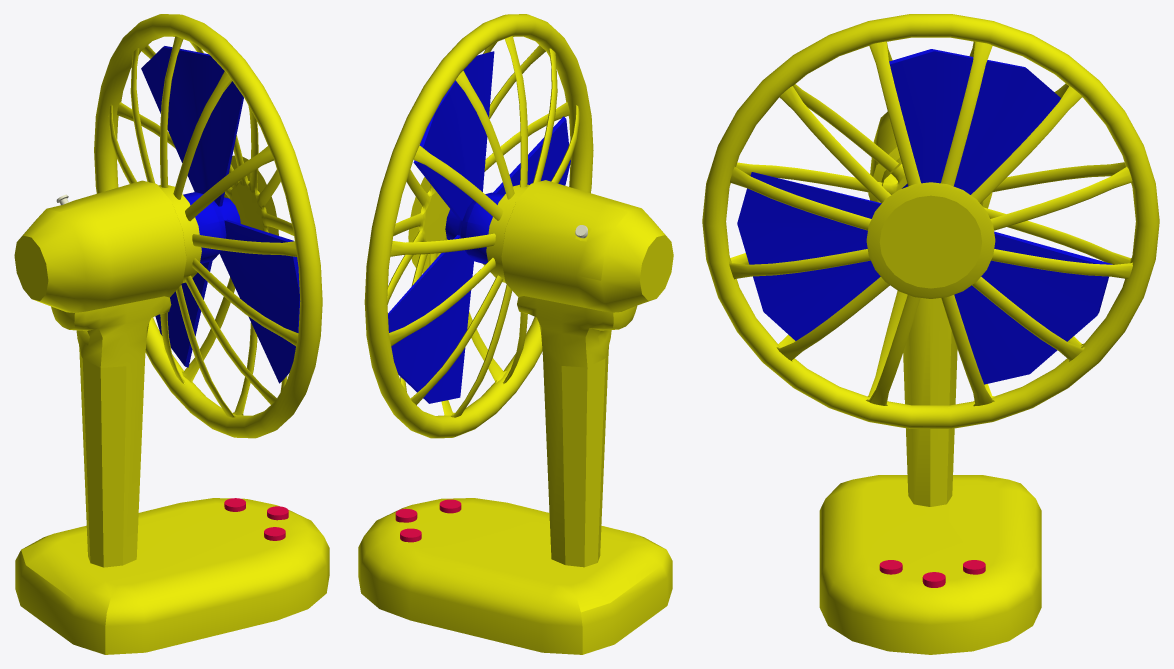
File: fan.fbx
3 views of the same model, side by side, from view 1: azimuth 30°, elevation 25°; view 2: azimuth 150°, elevation 25°; view 3: azimuth 270°, elevation 25° (orthographic). The views are drawn at different scales.
Parts seen in each view (by area): view 1: polySurface1, pCube21, pTorus1, polySurface2; view 2: polySurface1, pCube21, pTorus1, polySurface2; view 3: polySurface1, polySurface2, pCube21, pTorus1.
Part boxes in pixels (x1,y1,x2,y2): polySurface1: (14,36,298,567); pCube21: (15,498,329,654); pTorus1: (94,14,322,438); polySurface2: (141,46,300,383); polySurface1: (387,36,673,567); pCube21: (358,498,672,654); pTorus1: (364,14,593,438); polySurface2: (388,51,570,403); polySurface1: (729,41,1132,506); polySurface2: (737,49,1112,384); pCube21: (819,475,1041,654); pTorus1: (702,14,1159,428).
Bounding box in the file's own units: 4.05 × 7.54 × 5.35.
